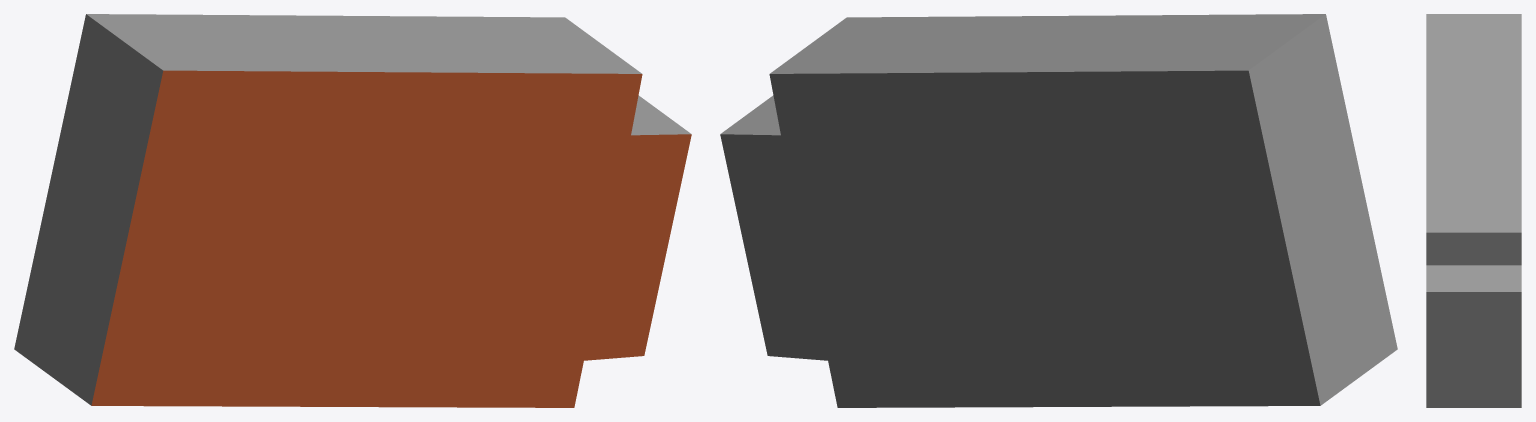
File: construction_4244_assumed_A_Casa_h6m.obj
3 renders of one model, left to right at view 1: azimuth 30°, elevation 25°; view 2: azimuth 150°, elevation 25°; view 3: azimuth 270°, elevation 25°, orthographic. The views are drawn at different scales.
Visible parts, largest first — view 1: construction_4244_assumed_A_Casa; view 2: construction_4244_assumed_A_Casa; view 3: construction_4244_assumed_A_Casa.
Boxes of the visible parts, bbox=[...] form: construction_4244_assumed_A_Casa: bbox=[14, 14, 691, 407]; construction_4244_assumed_A_Casa: bbox=[720, 14, 1397, 407]; construction_4244_assumed_A_Casa: bbox=[1426, 14, 1521, 407].
Size of the model in its own units: 26.9 by 18.74 by 6.
